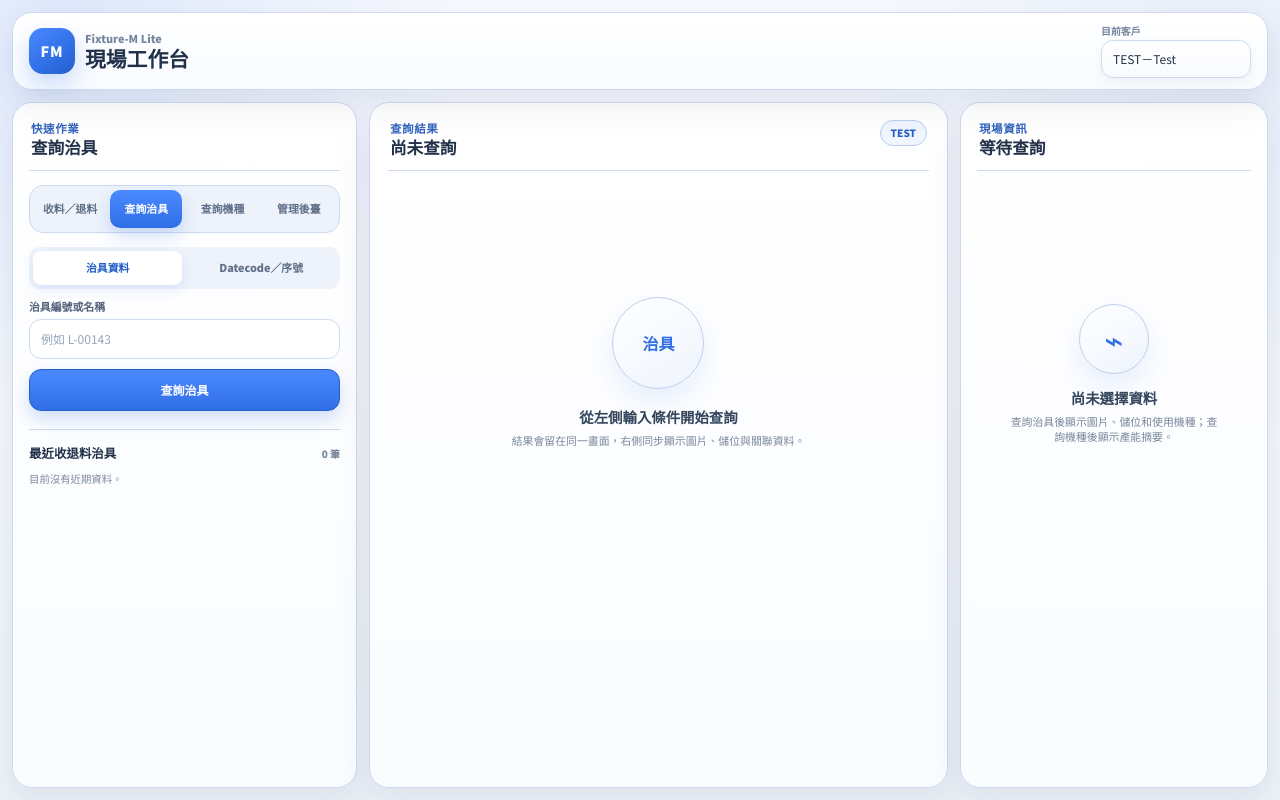
WorkbenchUiSurface › keeps fixture search and guest receipt mode inside the three-column workbench
In the field with placeholder "例如 L-00143": (184, 339) [29,319,340,359], type "L-00143"
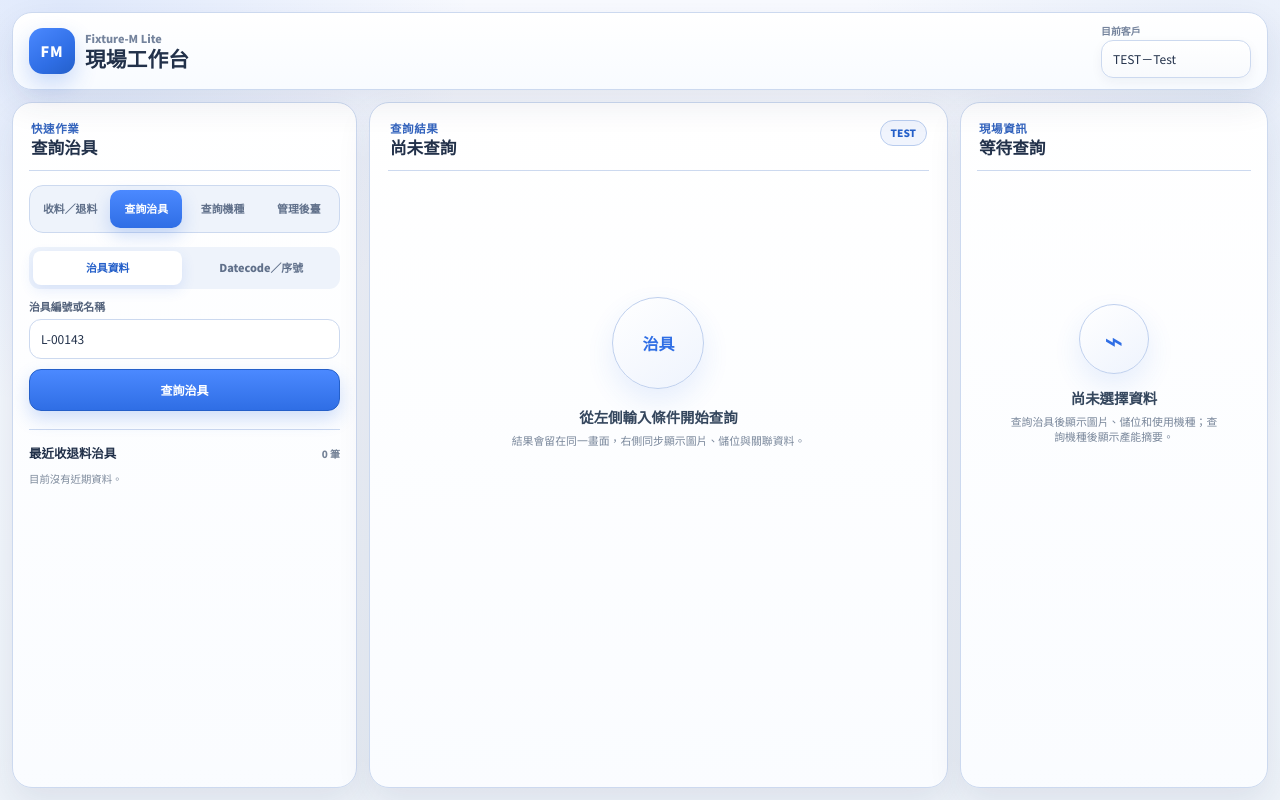
Submit the form with class "workbench-query-form", box [29,247,340,411]
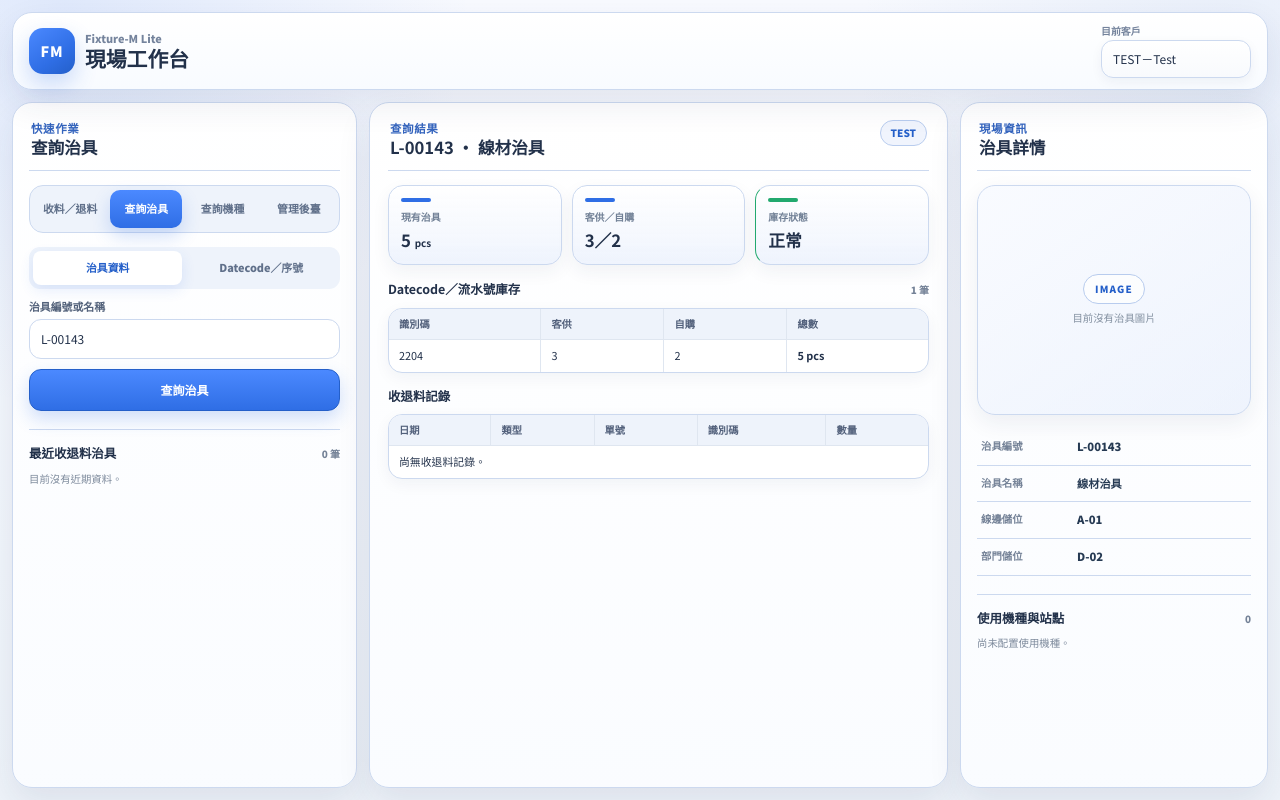
expect the text "L-00143 · 線材治具" is shown: met, box [390,138,544,158]
expect the text "5 pcs" is shown: met, box [401,228,431,252]
expect the text "A-01" is shown: met, box [1077,511,1102,527]
Click the tab "收料／退料": (70, 209) [34,190,106,228]
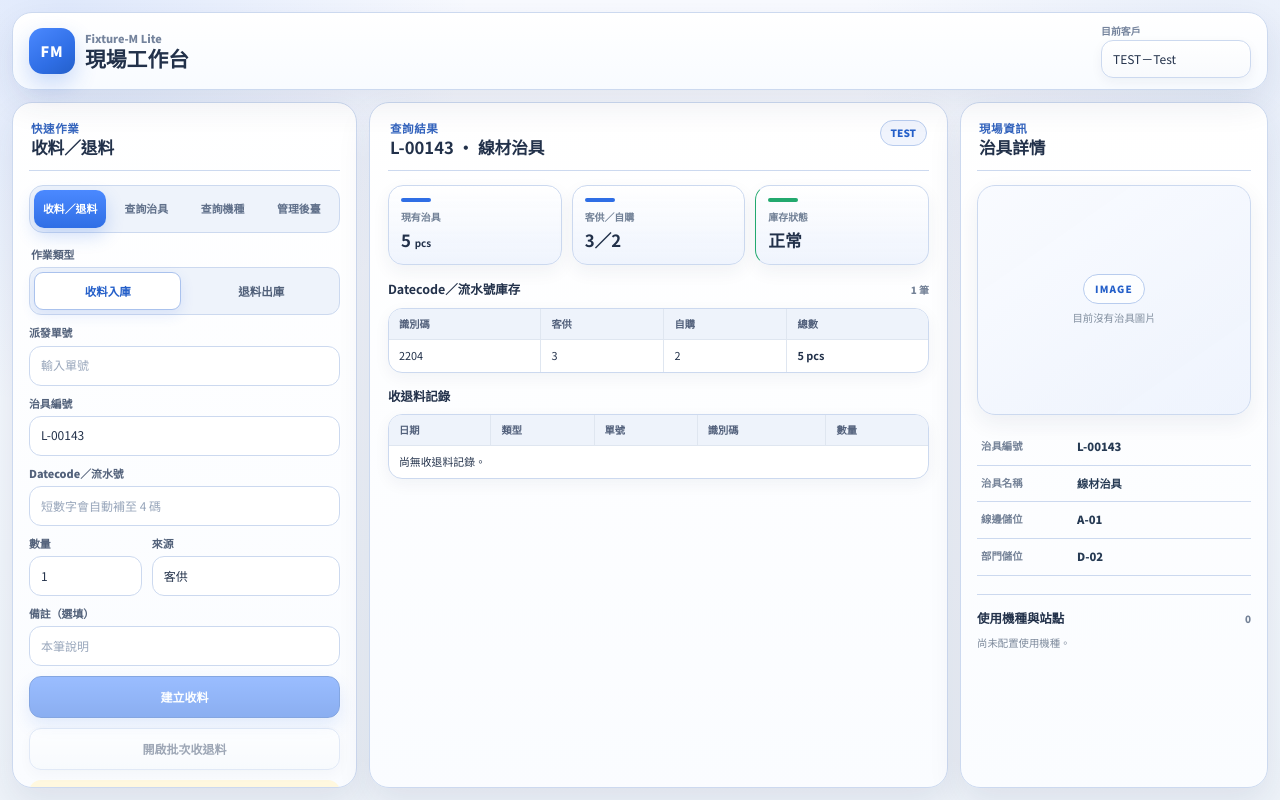
expect the text "L-00143" is shown: met, box [1077,438,1121,454]
expect the button with class "workbench-primary" is disabled: met, box [29,676,340,718]
